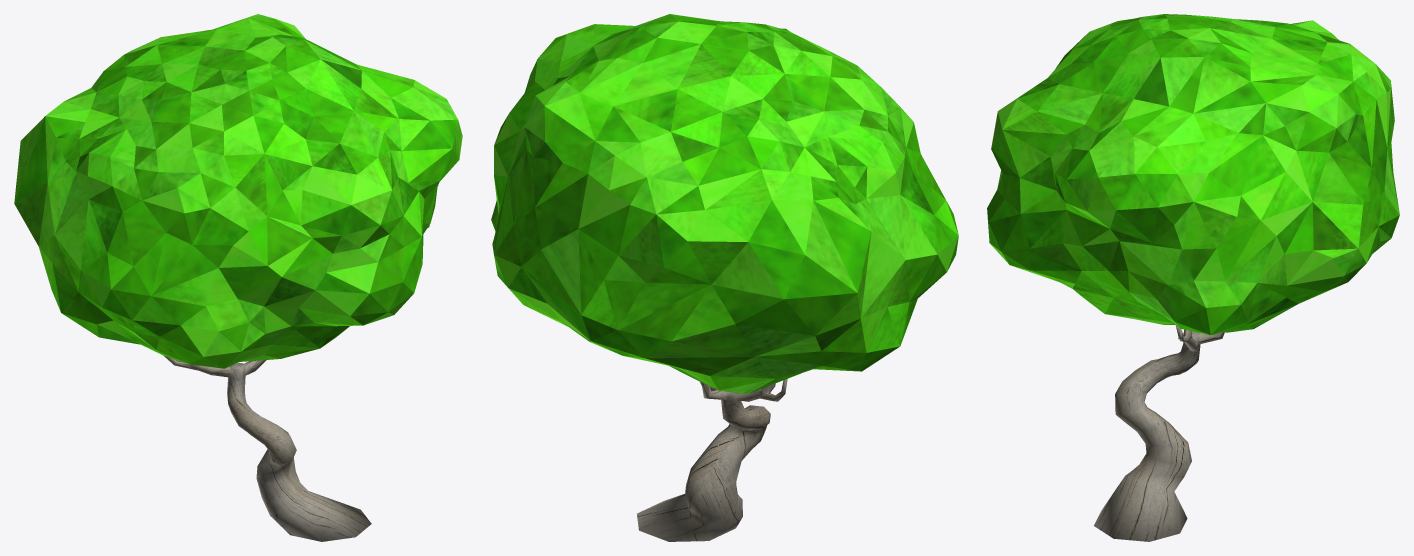
The model's file is oak.glb.
3 views of the same model, side by side, from view 1: azimuth 30°, elevation 25°; view 2: azimuth 150°, elevation 25°; view 3: azimuth 270°, elevation 25° (orthographic). The views are drawn at different scales.
Parts seen in each view (by area): view 1: tree crown 01.017, trunk 01.017; view 2: tree crown 01.017, trunk 01.017; view 3: tree crown 01.017, trunk 01.017.
Part boxes in pixels (bbox=[...]): tree crown 01.017: bbox=[14, 14, 462, 368]; trunk 01.017: bbox=[164, 356, 371, 541]; tree crown 01.017: bbox=[491, 14, 958, 393]; trunk 01.017: bbox=[637, 379, 787, 541]; tree crown 01.017: bbox=[987, 14, 1399, 334]; trunk 01.017: bbox=[1094, 325, 1224, 541].
Size of the model in its own units: 9.84 by 11.84 by 9.31.
2 materials, 2 textured.
